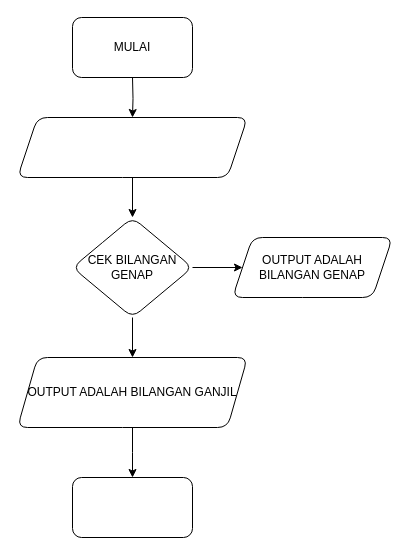
The diagram is 410 pixels wide and 555 high, and some of its shapes have lost their labels. The shapes that lost their labels are listed below. From the top down, each one's centre as x and y in pixels, then its label:
At pixel 132 147: "INPUT ADALAHB BILANGAN GENAP".
At pixel 132 507: "SELESAI".
